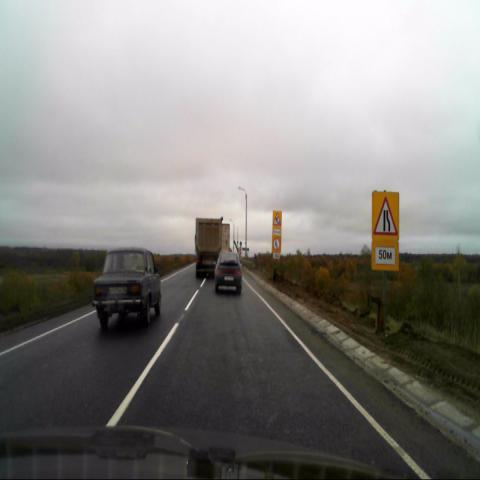1_20_2: (372, 191, 399, 240)
8_1_1: (371, 241, 398, 270)
